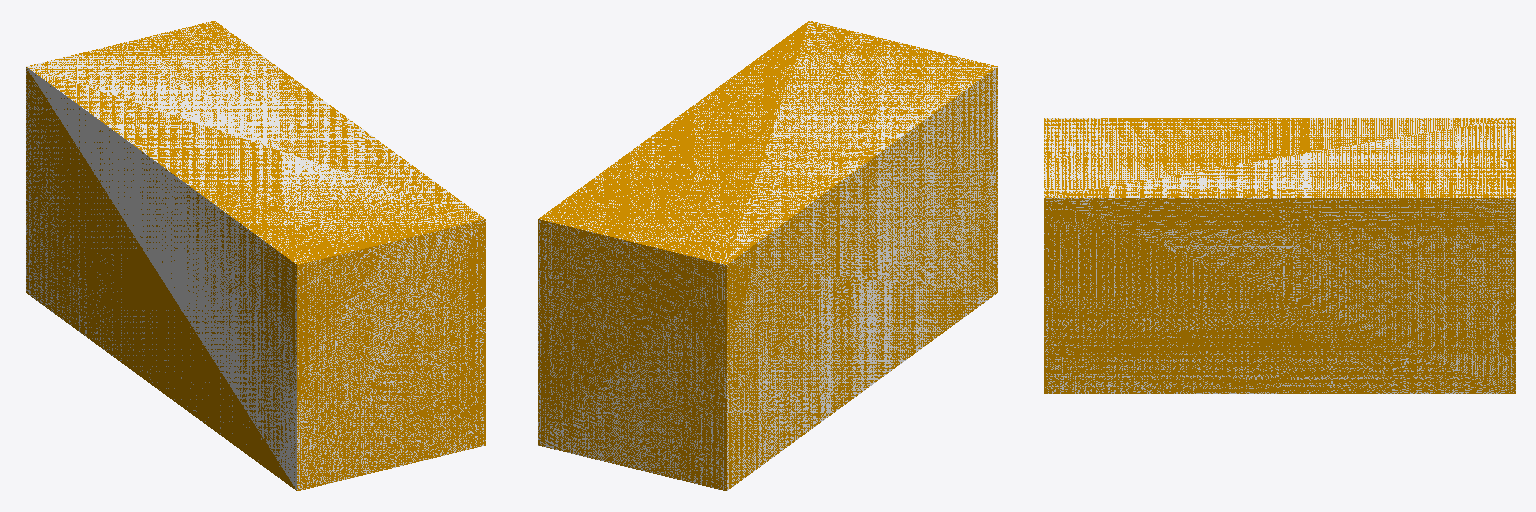
The robot description file, URDF, robot "my_object":
<?xml version="1.0" ?> 
<robot name="my_object" static="true">
  <link name="base_link">
  <inertial>
    <mass value="0.081" />
    <origin xyz="0 0 0.0" />
    <inertia ixx="1.0" ixy="0.0" ixz="0.0" iyy="1.0" iyz="0.0" izz="1.0"/>
  </inertial>
  <visual>
   <origin xyz="0 0 0.0" rpy="0 0 0" />
   <geometry>
     <mesh filename="package://cob_gazebo_objects/Media/models/tea_box.dae"/>
   </geometry>
  </visual>
  <collision>
   <origin xyz="0 0.00 0" rpy="0 0 0" />
   <geometry>
     <box size="0.063 0.158 0.073" />
   </geometry>
  </collision>     
  </link>


<gazebo reference="base_link">
  <mu1>50.0</mu1>
  <mu2>50.0</mu2>
  <kp>1000000.0</kp>
  <kd>1.0</kd>
</gazebo>
</robot>

--- Render facts (derived) ---
3 views of the same robot in one strip: view 1: azimuth 30°, elevation 25°; view 2: azimuth 150°, elevation 25°; view 3: azimuth 270°, elevation 25° (orthographic).
Robot: my_object — 1 links, 0 joints (none); root link base_link; default pose: every joint at zero.
Visible links, largest first — view 1: base_link; view 2: base_link; view 3: base_link.
Boxes of the visible links, bbox=[...] form: base_link: bbox=[26, 21, 485, 490]; base_link: bbox=[538, 21, 997, 490]; base_link: bbox=[1044, 118, 1515, 393].
Bounding box of the posed robot: 0.0016 × 0.004 × 0.0018 m (x, y, z).
Meshes: 1 distinct files referenced, 1 mesh visuals loaded (1 Collada DAE).